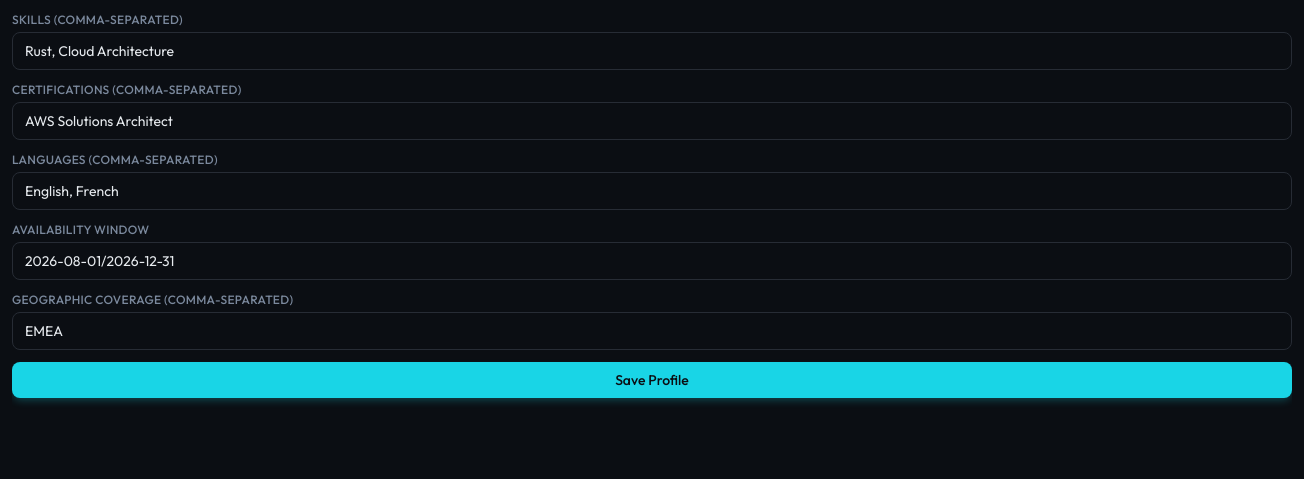
Test: ProfileEditForm › does not crash when the PATCH response omits `reason` entirely (the real skip_serializing_if wire shape)
expect the field labelled "Skills (comma-separated)" holds "Rust, Cloud Architecture": met, box [12,32,1292,70]
Click the button "Save Profile": (652, 380) [12,362,1292,398]
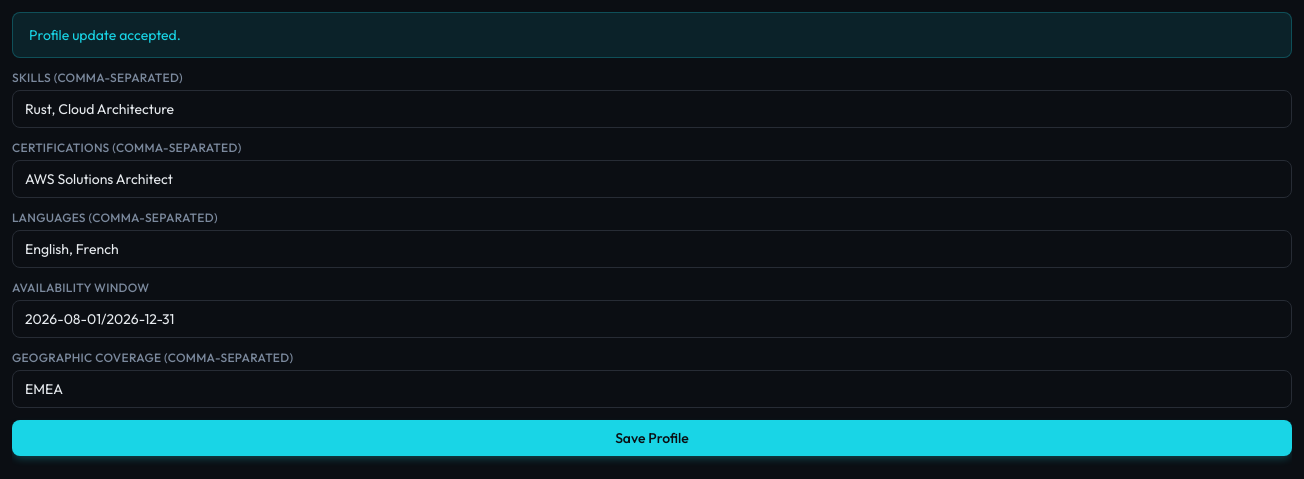
expect the text "Profile update accepted." is shown: met, box [12,12,1292,58]
